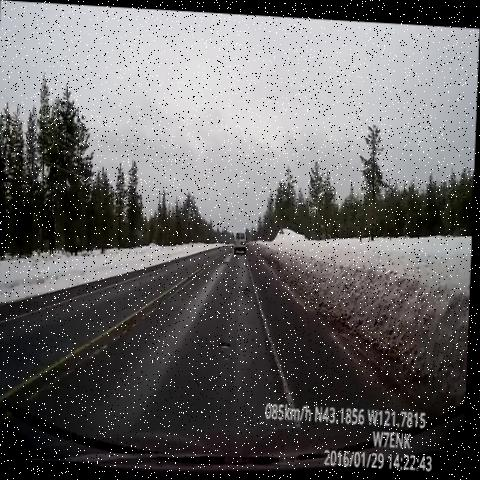pothole: (214, 329, 239, 365), (243, 275, 259, 301), (219, 251, 236, 271)
